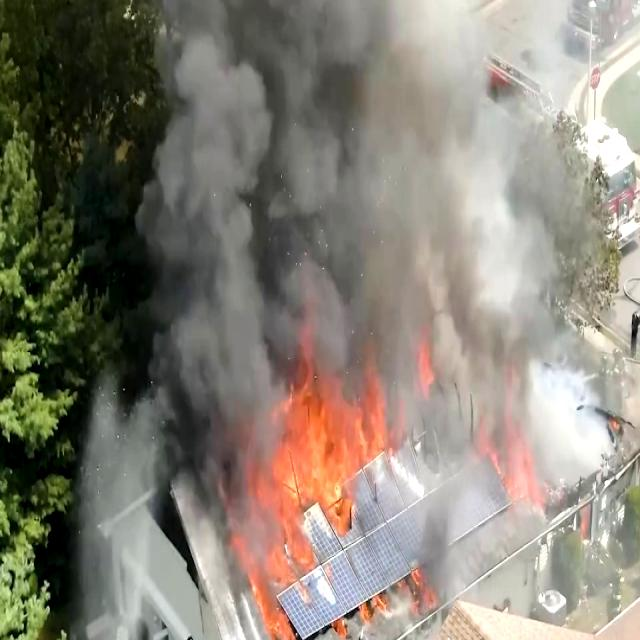fire: (227, 347, 387, 605)
smoke: (196, 0, 466, 263)
